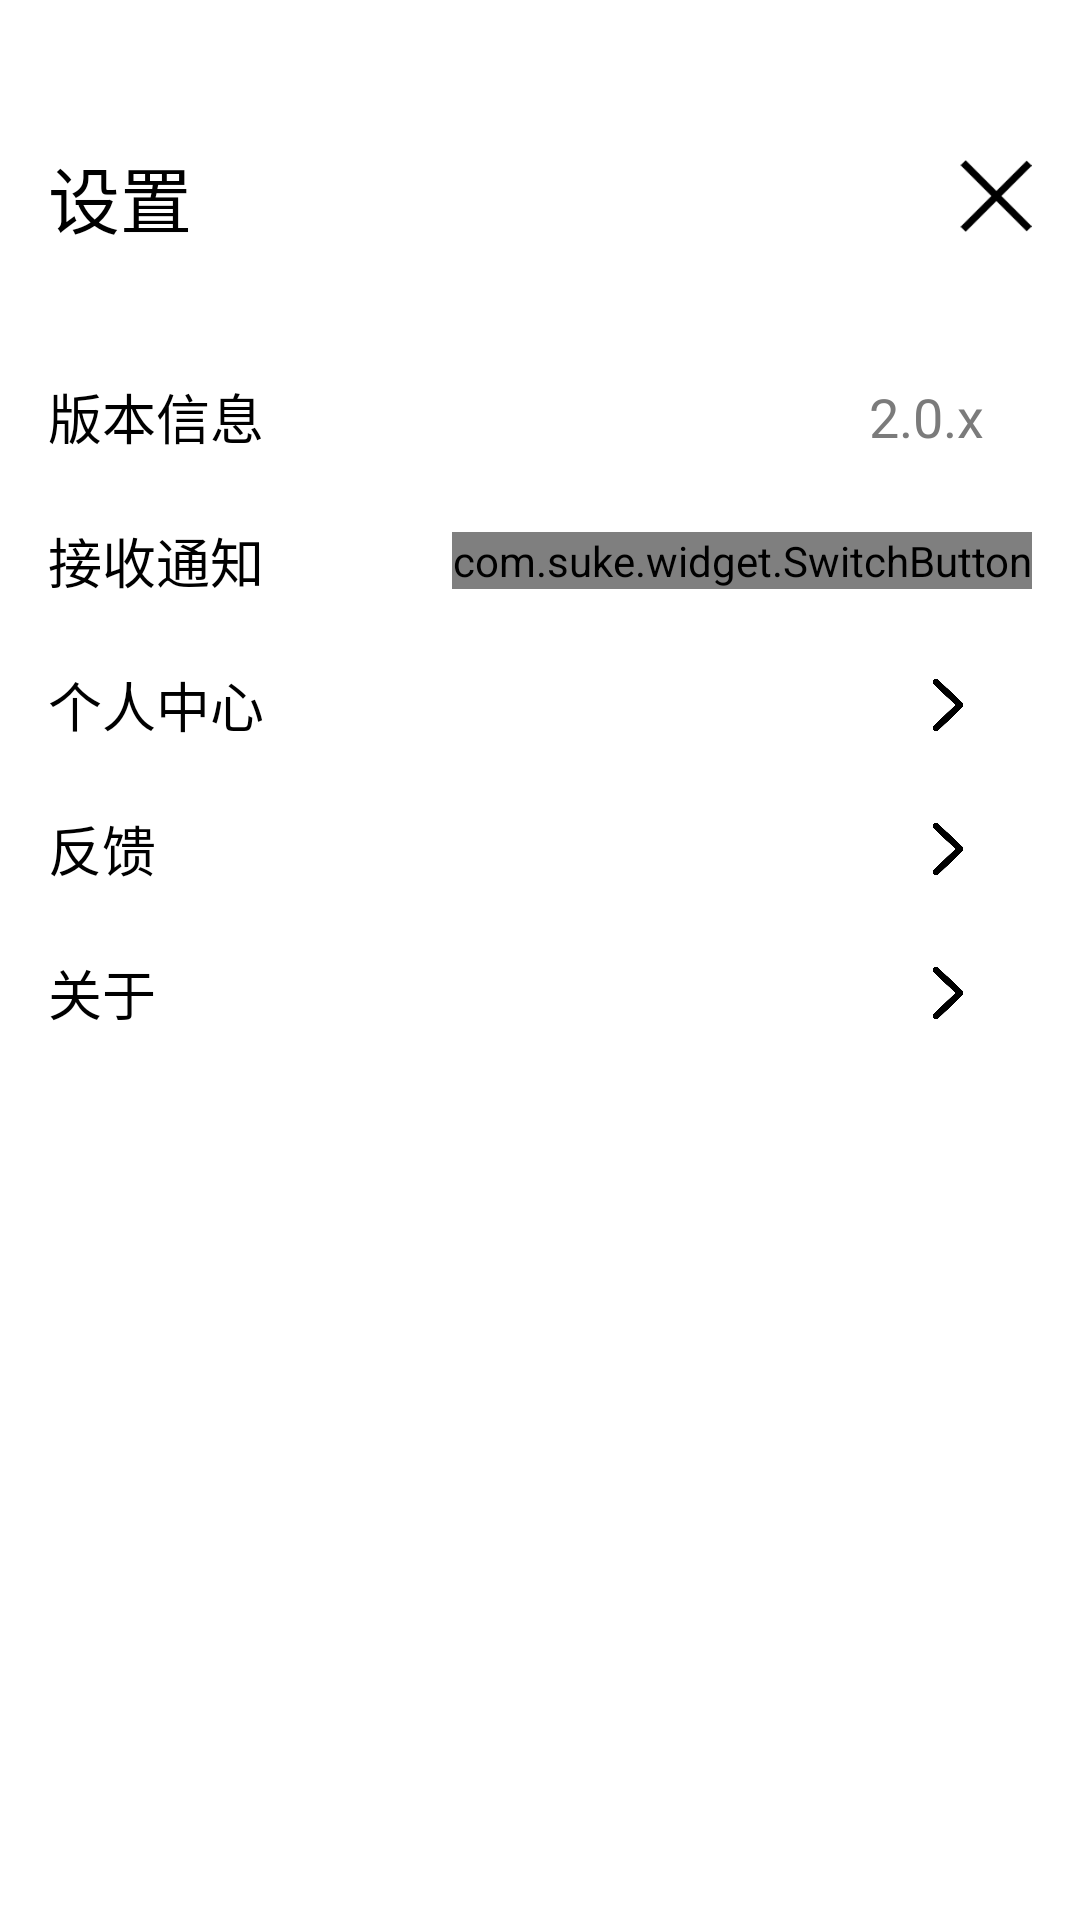

Where to tap for icons on this 1080×1920 app screen, as point (x, y):
arrow right: point (948, 705), point (948, 849), point (948, 993)
cancel: point (996, 196)
